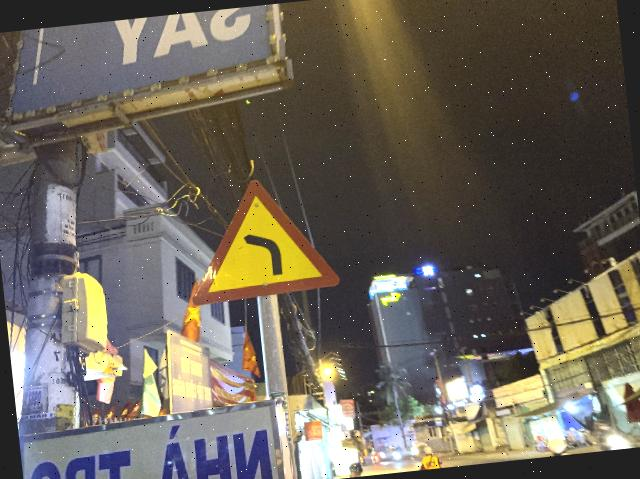cho-ngoat-nguy-hiem-ben-phai: (180, 168, 343, 308)
